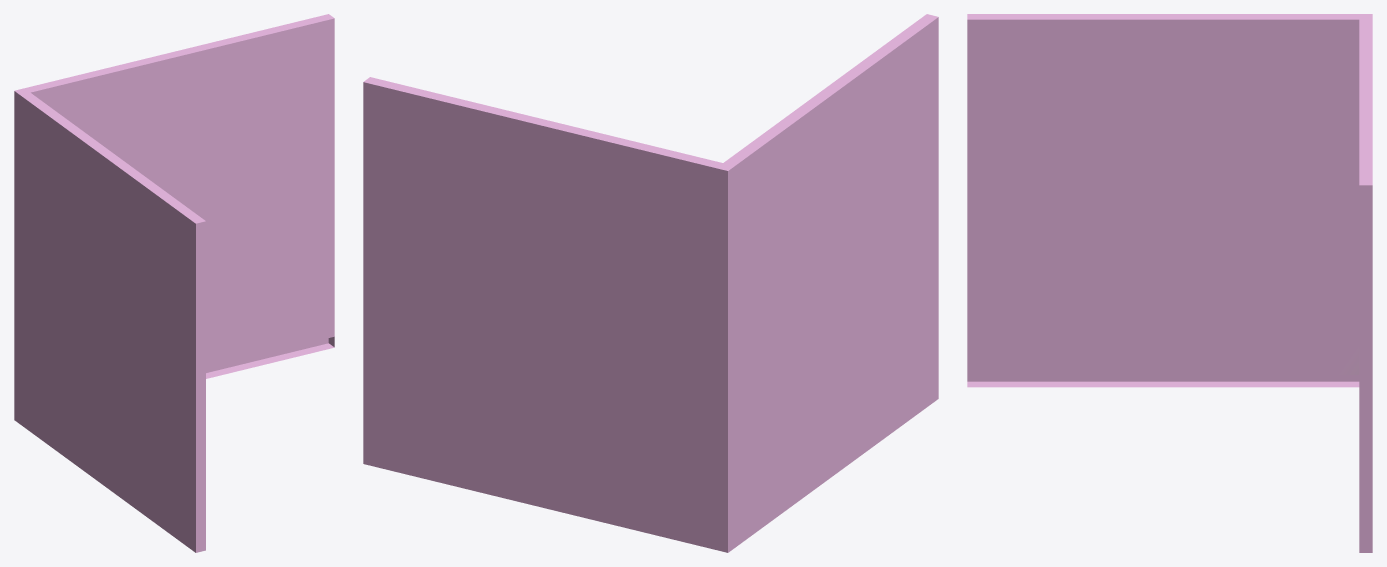
The model's file is Walls.fbx.
3 views of the same model, side by side, from view 1: azimuth 30°, elevation 25°; view 2: azimuth 150°, elevation 25°; view 3: azimuth 270°, elevation 25° (orthographic). The views are drawn at different scales.
Parts seen in each view (by area): view 1: Walls; view 2: Walls; view 3: Walls.
Part boxes in pixels (left/top/right/bottom): Walls: left=14, top=14, right=334, bottom=552; Walls: left=363, top=14, right=938, bottom=552; Walls: left=967, top=14, right=1372, bottom=552.
Size of the model in its own units: 1000 by 1000 by 1000.
